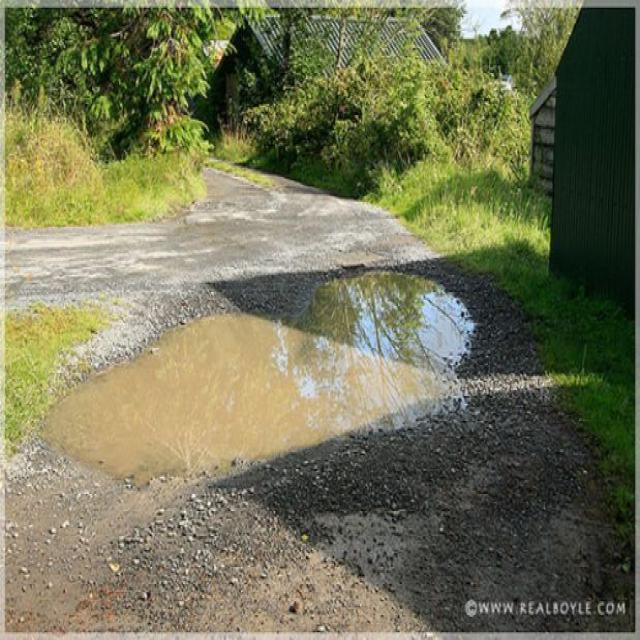pothole: (39, 256, 477, 483)
